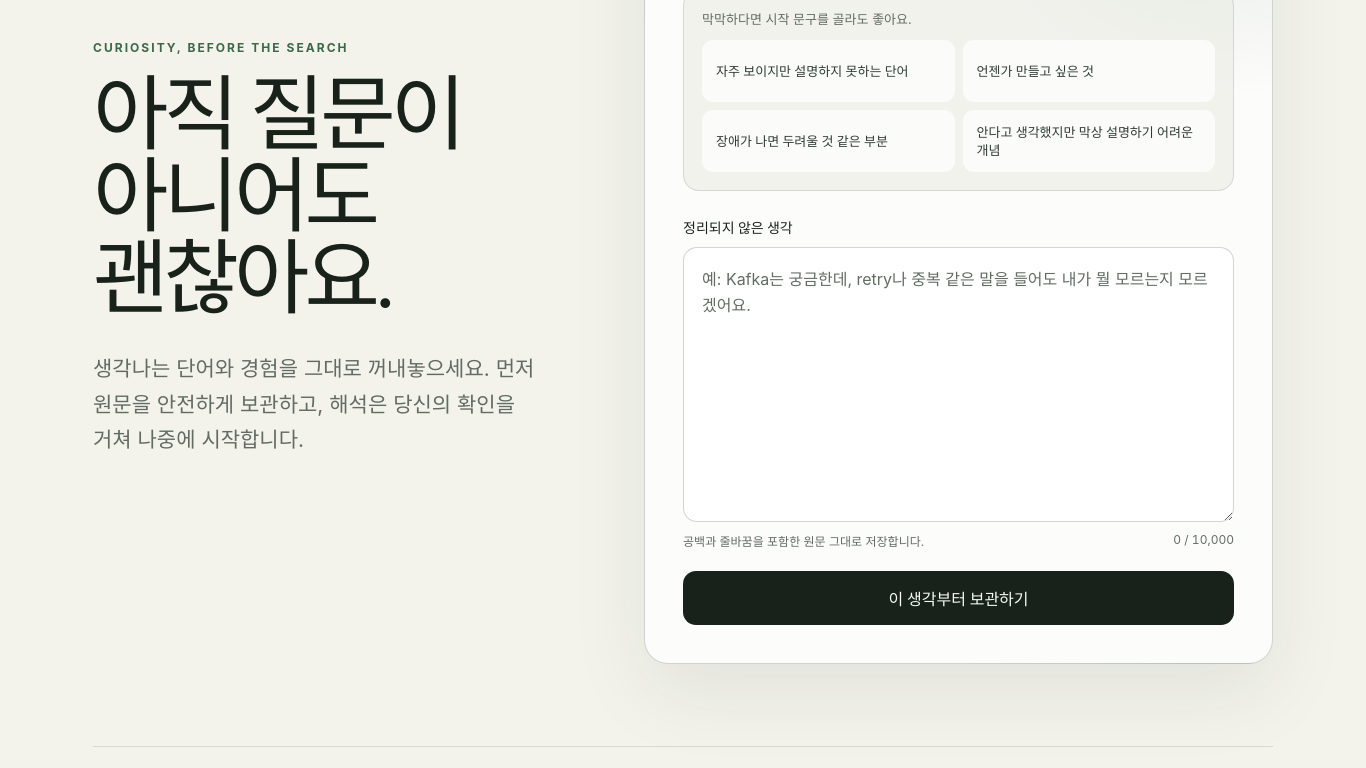
App › prevents duplicate submissions while a request is in flight
(page scrolled)
Type "동시 제출을 막아야 한다" into the text box labelled "정리되지 않은 생각".
click(958, 384); type("동시 제출을 막아야 한다")  # box [683,247,1234,522]
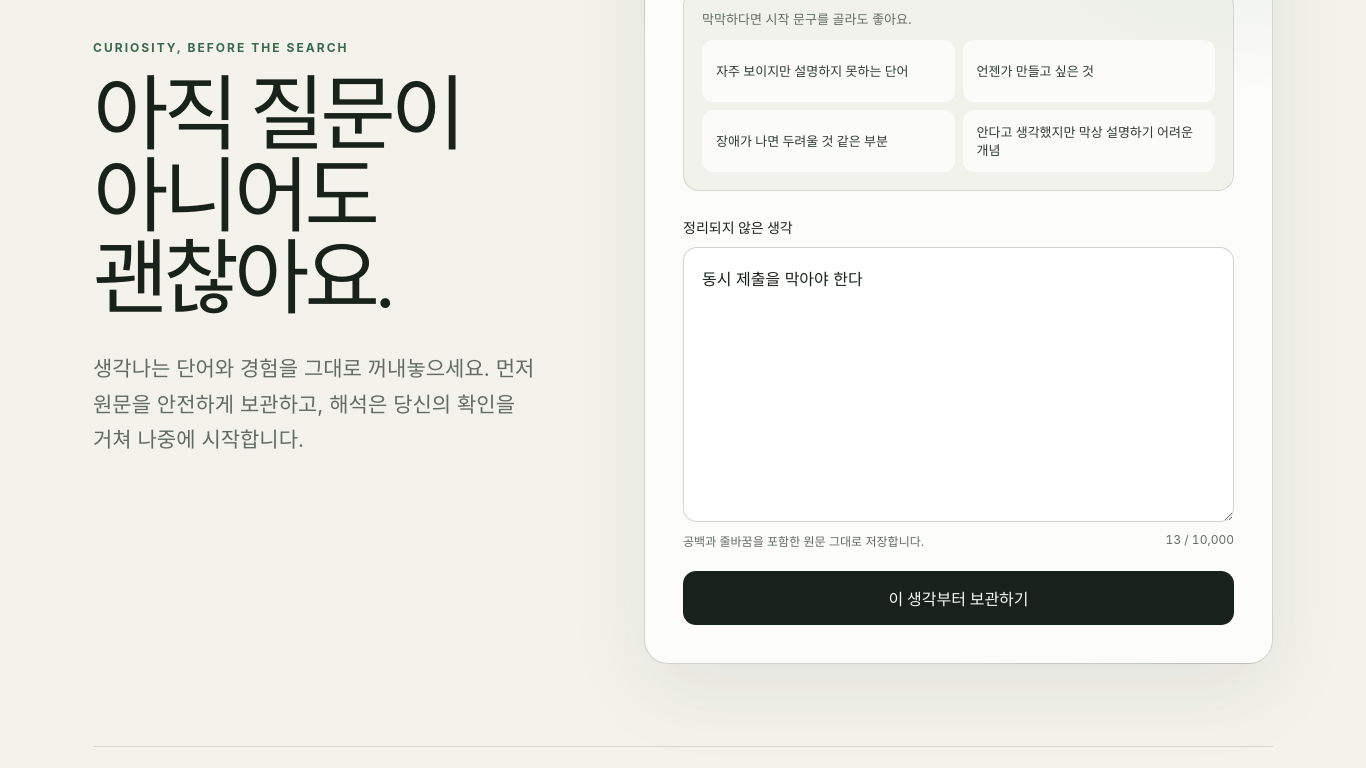
Click the button "이 생각부터 보관하기".
click(958, 598)  # box [683,571,1234,625]
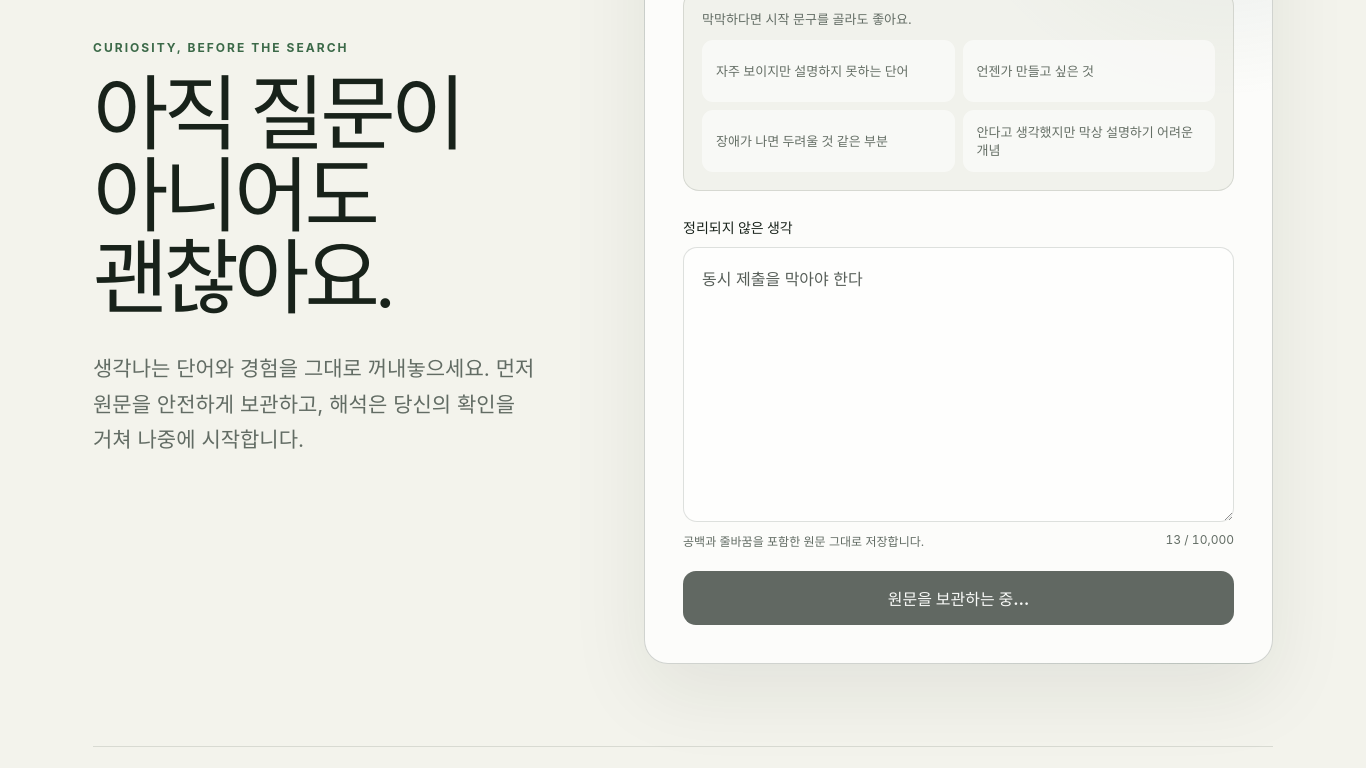
Expected: the button "원문을 보관하는 중…" is disabled
Click the button "원문을 보관하는 중…".
click(958, 598)  # box [683,571,1234,625]
(page scrolled)
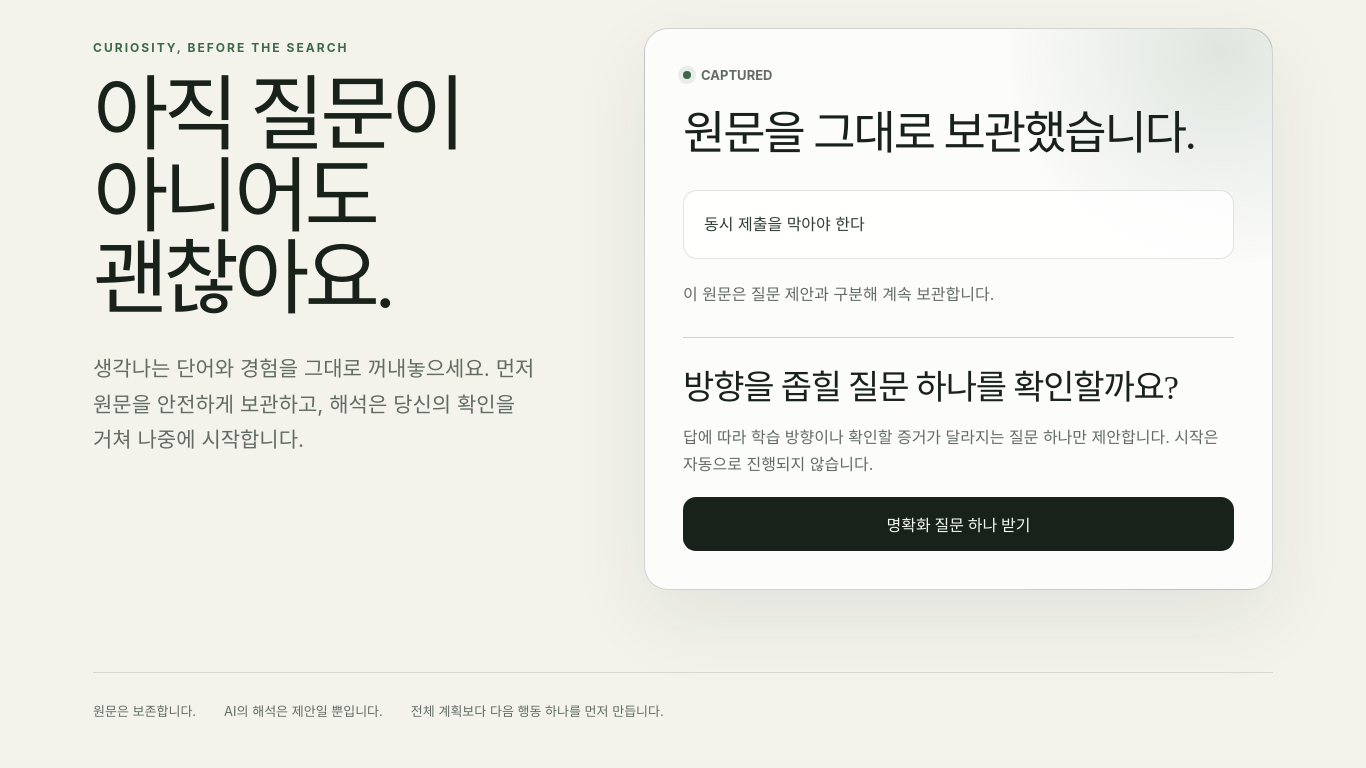
Expected: the message is shown, [644,28,1273,590]
